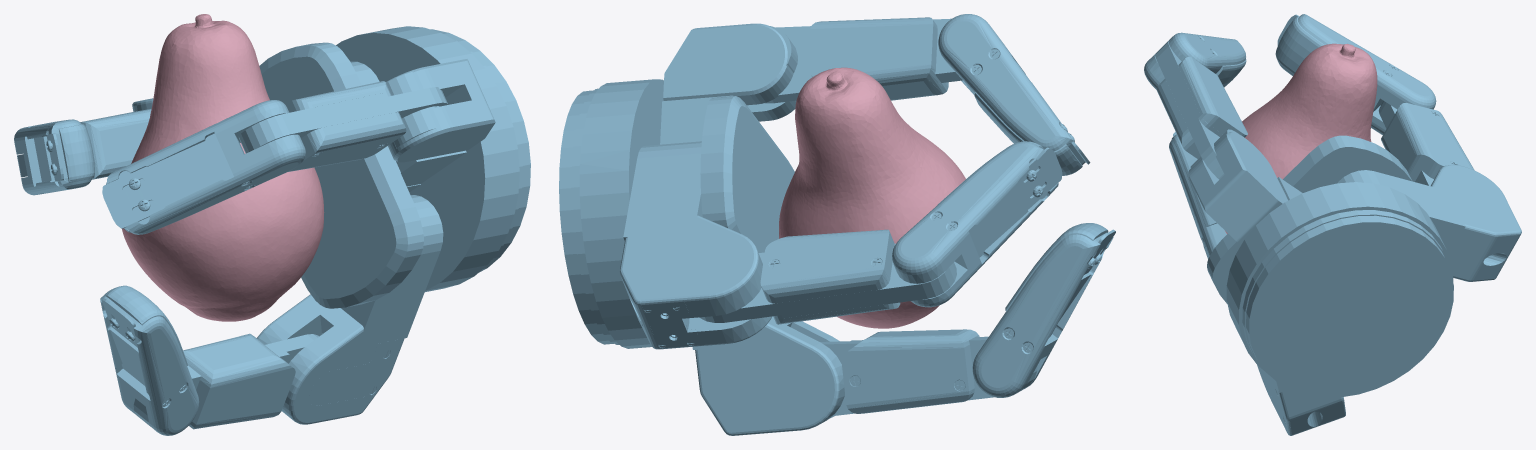
3 views of the same model, side by side, from view 1: azimuth 30°, elevation 25°; view 2: azimuth 150°, elevation 25°; view 3: azimuth 270°, elevation 25° (orthographic). The views are drawn at different scales.
Parts seen in each view (by area): view 1: world, pear.stl; view 2: world, pear.stl; view 3: world, pear.stl.
Boxes of the visible parts, x1,y1,x2,y2 form: world: [14, 26, 530, 435]; pear.stl: [122, 14, 324, 321]; world: [559, 14, 1115, 435]; pear.stl: [779, 67, 965, 328]; world: [1144, 14, 1521, 435]; pear.stl: [1225, 43, 1377, 233].
Bounding box in the file's own units: 0.177 × 0.1496 × 0.1502.
